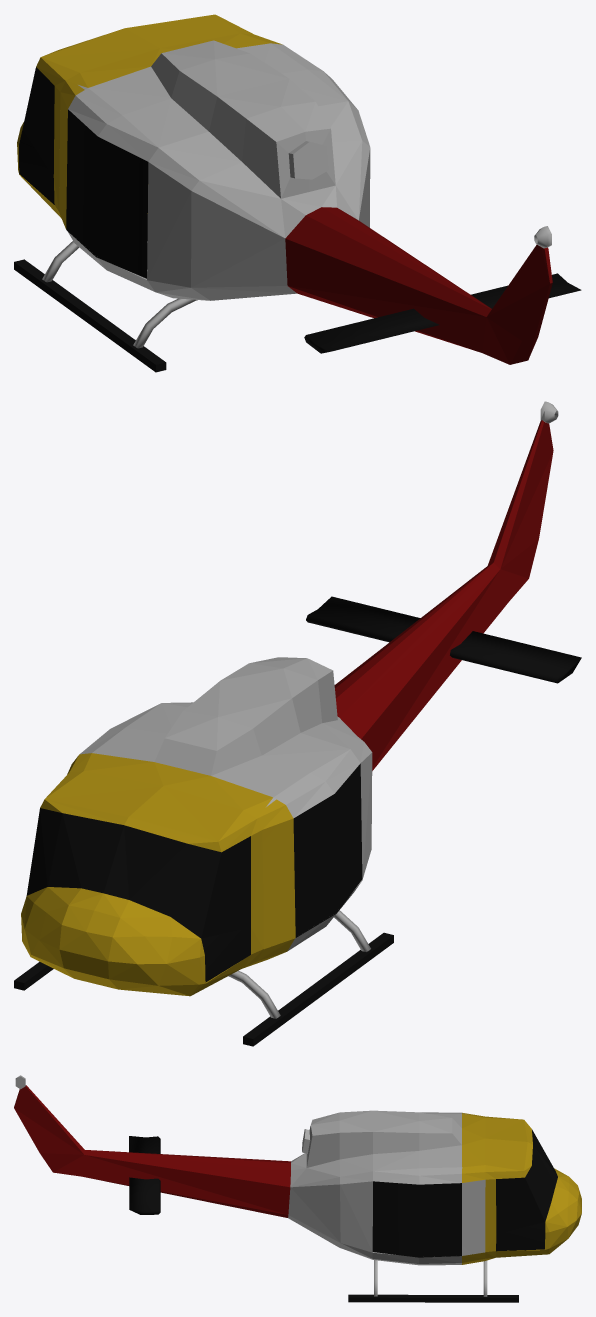
Rendered from 99edc77b-510f-481a-bb63-71a808ccaad6-helicopterCenteredNoRotors.obj.
The picture shows the model from 3 angles, top to bottom: view 1: azimuth 30°, elevation 25°; view 2: azimuth 150°, elevation 25°; view 3: azimuth 270°, elevation 25°; orthographic projection. The views are drawn at different scales.
Visible parts, largest first — view 1: Object013, Object011, Object012, Box01_Box003, Box20182, Object015, Box20184, Box20181, noga002; view 2: Object013, Object011, Object012, Object015, Box01_Box003, Box20184, Box20182; view 3: Object013, Object018, Object017, Object016, Box20180, Box20184, Box01_Box003.
Boxes of the visible parts, left/top/right/bottom form: Object013: left=17, top=14, right=552, bottom=364; Object011: left=66, top=109, right=148, bottom=278; Object012: left=19, top=67, right=54, bottom=204; Box01_Box003: left=304, top=308, right=439, bottom=353; Box20182: left=14, top=259, right=166, bottom=372; Object015: left=59, top=93, right=67, bottom=229; Box20184: left=471, top=273, right=581, bottom=308; Box20181: left=133, top=298, right=197, bottom=348; noga002: left=42, top=241, right=78, bottom=282; Object013: left=21, top=420, right=553, bottom=996; Object011: left=293, top=763, right=362, bottom=937; Object012: left=201, top=836, right=250, bottom=982; Object015: left=262, top=818, right=295, bottom=949; Box01_Box003: left=450, top=631, right=581, bottom=683; Box20184: left=306, top=596, right=420, bottom=642; Box20182: left=243, top=932, right=393, bottom=1046; Object013: left=14, top=1085, right=581, bottom=1265; Object018: left=372, top=1181, right=461, bottom=1257; Object017: left=496, top=1177, right=545, bottom=1251; Object016: left=462, top=1179, right=485, bottom=1255; Box20180: left=348, top=1294, right=518, bottom=1302; Box20184: left=129, top=1177, right=160, bottom=1214; Box01_Box003: left=129, top=1136, right=160, bottom=1153.
Bounding box in the file's own units: 2.96 × 3.57 × 9.62.
